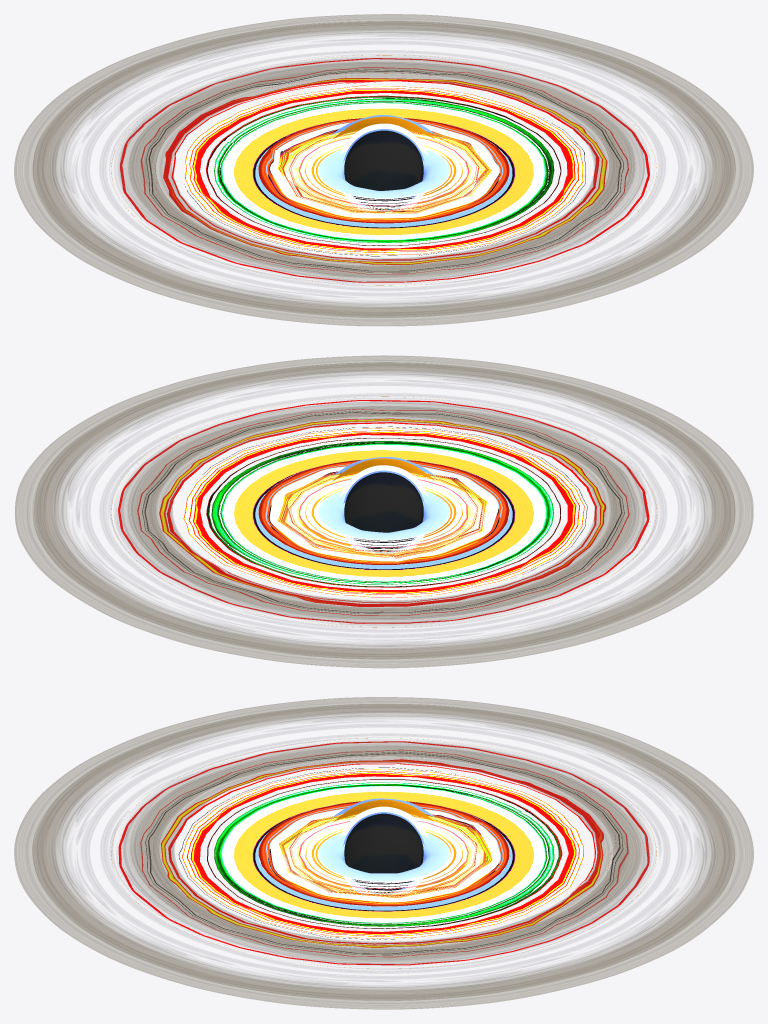
Rendered from black_hole.glb.
The picture shows the model from 3 angles, top to bottom: view 1: azimuth 30°, elevation 25°; view 2: azimuth 150°, elevation 25°; view 3: azimuth 270°, elevation 25°; orthographic projection.
Parts seen in each view (by area): view 1: black hole_ring_ring_0, black hole_black hole light3_0, black hole_black hole light2_0, black hole_black hole light1_0, Surface; view 2: black hole_ring_ring_0, black hole_black hole light3_0, black hole_black hole light2_0, black hole_black hole light1_0, Surface; view 3: black hole_ring_ring_0, black hole_black hole light3_0, black hole_black hole light2_0, black hole_black hole light1_0, Surface.
Part boxes in pixels (box(x1,y1,x2,y2)): black hole_ring_ring_0: box(14, 14, 753, 326); black hole_black hole light3_0: box(111, 55, 656, 285); black hole_black hole light2_0: box(258, 118, 509, 223); black hole_black hole light1_0: box(255, 115, 512, 227); Surface: box(344, 130, 423, 209); black hole_ring_ring_0: box(15, 355, 753, 668); black hole_black hole light3_0: box(111, 396, 656, 627); black hole_black hole light2_0: box(258, 459, 509, 564); black hole_black hole light1_0: box(255, 457, 512, 569); Surface: box(344, 472, 423, 551); black hole_ring_ring_0: box(14, 697, 753, 1009); black hole_black hole light3_0: box(111, 738, 656, 968); black hole_black hole light2_0: box(258, 801, 509, 906); black hole_black hole light1_0: box(255, 798, 512, 910); Surface: box(344, 813, 423, 893).
Size of the model in its own units: 2 by 0.2847 by 2.
Materials: 5 (4 with a texture image).
